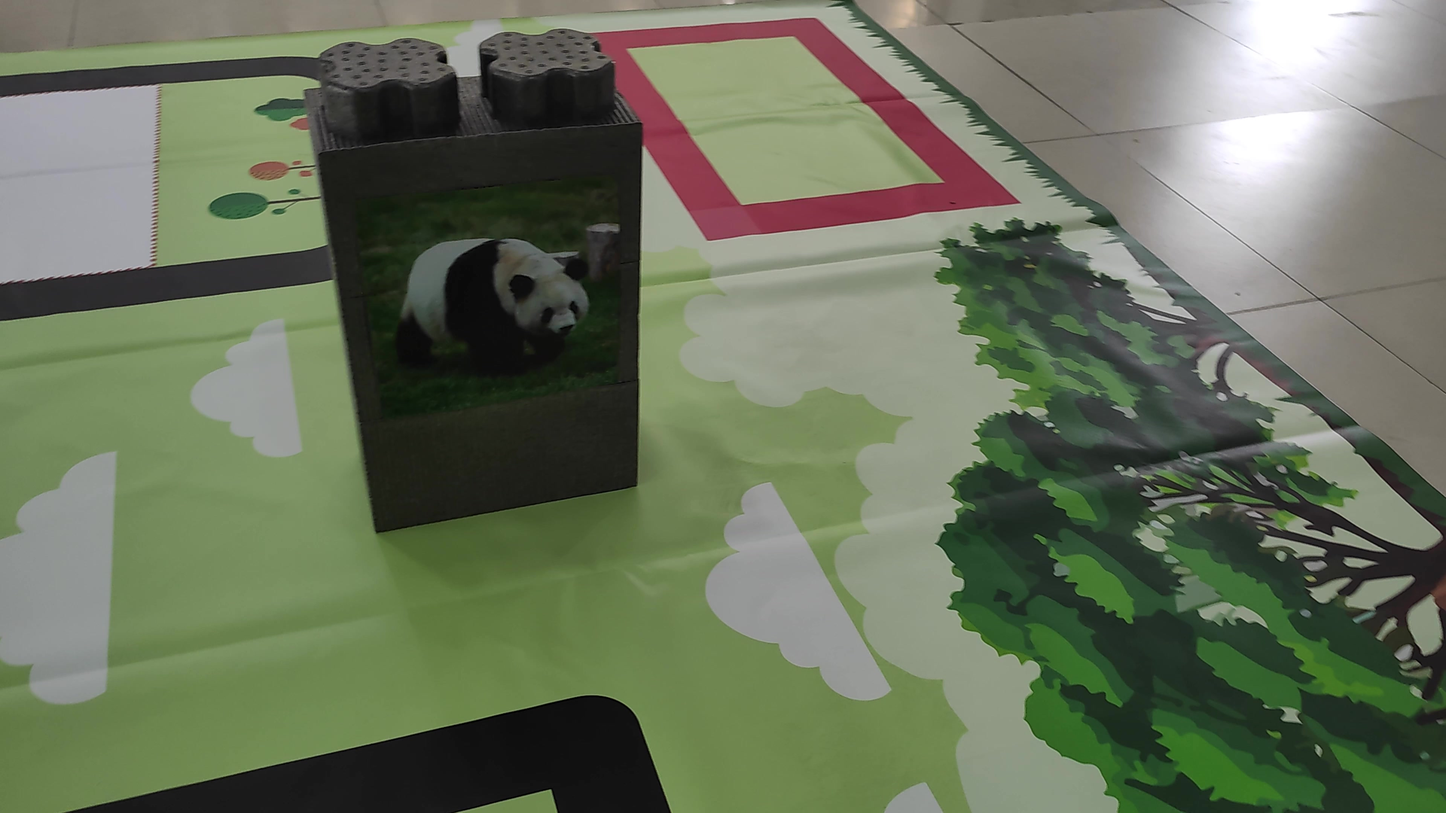panda: (373, 220, 606, 389)
